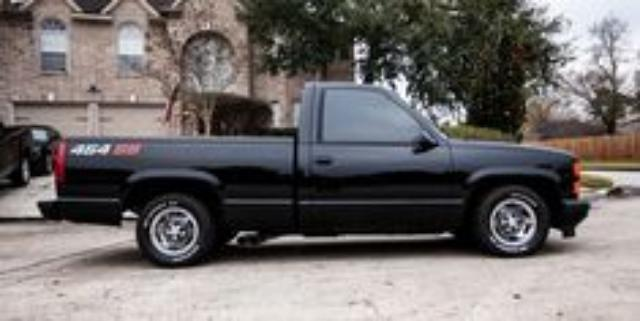pickup-truck: (37, 83, 592, 268)
